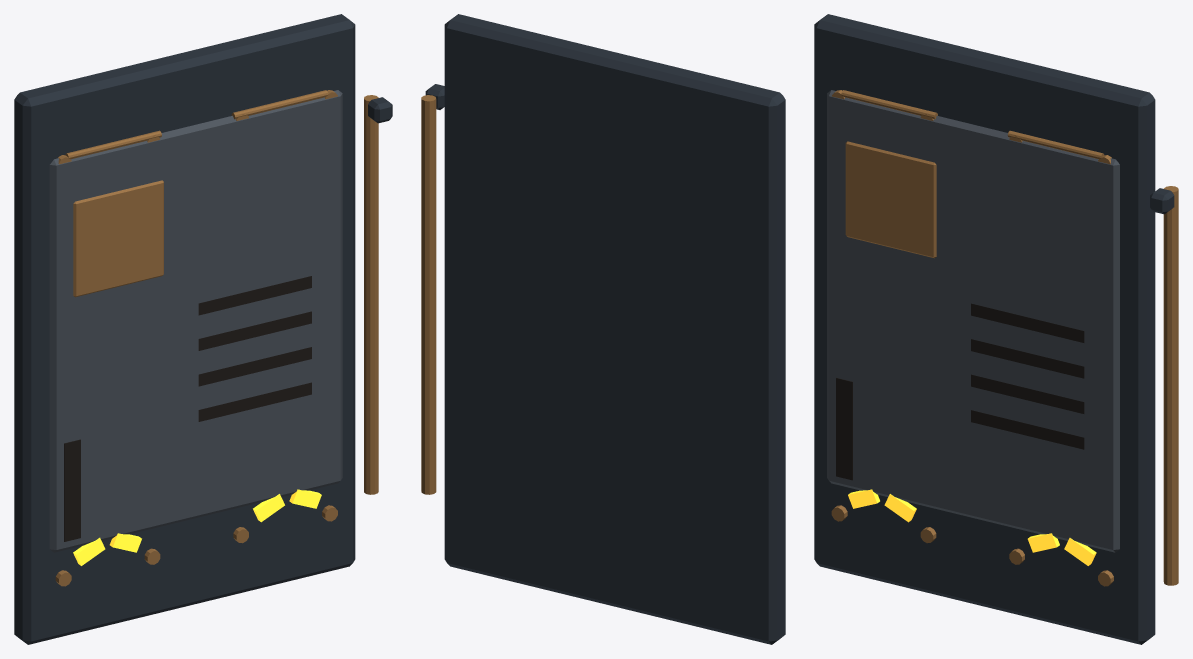
The model's file is runtime.glb.
3 renders of one model, left to right at view 1: azimuth 30°, elevation 25°; view 2: azimuth 150°, elevation 25°; view 3: azimuth 330°, elevation 25°, orthographic.
Parts seen in each view (by area): view 1: kinetic-tide-maintenance-panel-v09_plate_nocol, kinetic-tide-maintenance-panel-v09_steel_nocol, kinetic-tide-maintenance-panel-v09_bronze_nocol, kinetic-tide-maintenance-panel-v09_weardark_nocol, kinetic-tide-maintenance-panel-v09_warningorange_nocol; view 2: kinetic-tide-maintenance-panel-v09_steel_nocol, kinetic-tide-maintenance-panel-v09_bronze_nocol; view 3: kinetic-tide-maintenance-panel-v09_plate_nocol, kinetic-tide-maintenance-panel-v09_steel_nocol, kinetic-tide-maintenance-panel-v09_bronze_nocol, kinetic-tide-maintenance-panel-v09_weardark_nocol, kinetic-tide-maintenance-panel-v09_warningorange_nocol.
Boxes of the visible parts, x1,y1,x2,y2 form: kinetic-tide-maintenance-panel-v09_plate_nocol: (49,90,342,552); kinetic-tide-maintenance-panel-v09_steel_nocol: (14,14,392,644); kinetic-tide-maintenance-panel-v09_bronze_nocol: (55,90,378,586); kinetic-tide-maintenance-panel-v09_weardark_nocol: (64,276,311,541); kinetic-tide-maintenance-panel-v09_warningorange_nocol: (73,489,321,565); kinetic-tide-maintenance-panel-v09_steel_nocol: (425,14,785,644); kinetic-tide-maintenance-panel-v09_bronze_nocol: (421,95,436,494); kinetic-tide-maintenance-panel-v09_plate_nocol: (827,90,1119,552); kinetic-tide-maintenance-panel-v09_steel_nocol: (814,14,1174,644); kinetic-tide-maintenance-panel-v09_bronze_nocol: (831,90,1178,586); kinetic-tide-maintenance-panel-v09_weardark_nocol: (836,303,1084,480); kinetic-tide-maintenance-panel-v09_warningorange_nocol: (848,489,1096,565).
Size of the model in its own units: 3 by 4.33 by 0.3175.
